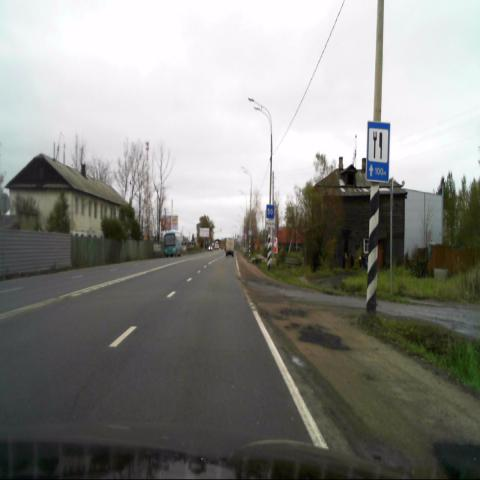7_7: (367, 121, 389, 182)
